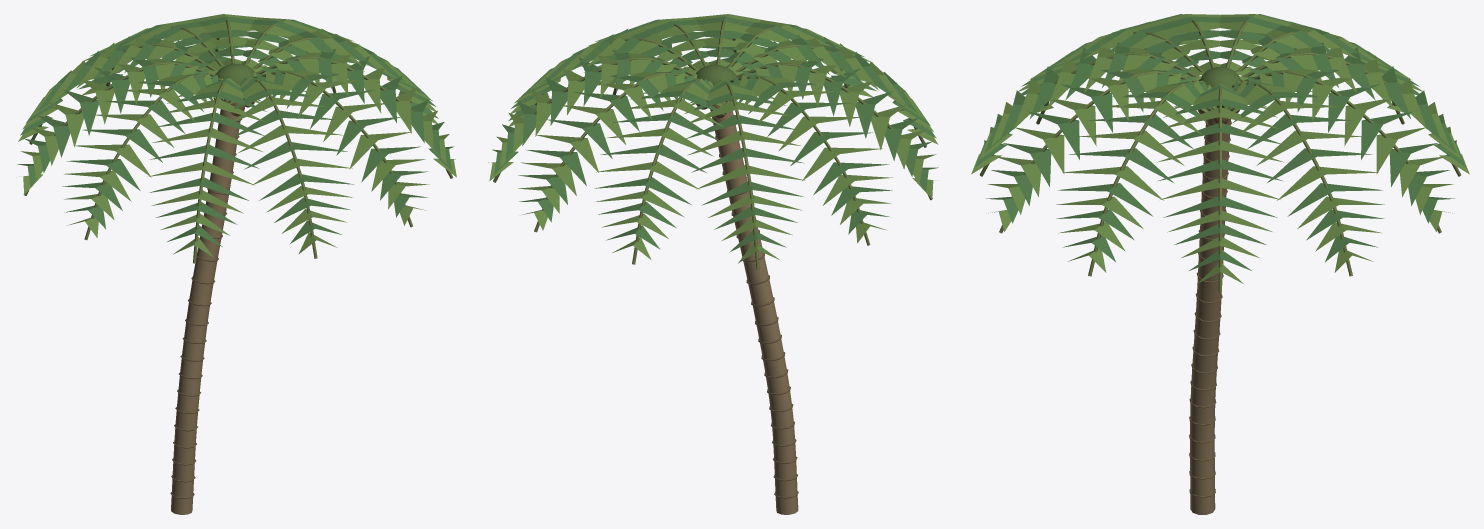
Rendered from palm.glb.
3 renders of one model, left to right at view 1: azimuth 30°, elevation 25°; view 2: azimuth 150°, elevation 25°; view 3: azimuth 270°, elevation 25°, orthographic. The views are drawn at different scales.
Visible parts, largest first — view 1: LeafletAssembly (×2), CurvedTrunk, FrondStemAssembly, BarkRingAssembly, Crown; view 2: LeafletAssembly (×2), CurvedTrunk, FrondStemAssembly, BarkRingAssembly, Crown; view 3: LeafletAssembly (×2), CurvedTrunk, FrondStemAssembly, BarkRingAssembly, Crown.
Part boxes in pixels (<box>): LeafletAssembly (×2): <box>17,14,456,257</box>; CurvedTrunk: <box>171,99,240,514</box>; FrondStemAssembly: <box>23,19,453,263</box>; BarkRingAssembly: <box>170,119,241,499</box>; Crown: <box>215,63,255,100</box>; LeafletAssembly (×2): <box>488,14,938,263</box>; CurvedTrunk: <box>712,100,798,514</box>; FrondStemAssembly: <box>493,19,932,269</box>; BarkRingAssembly: <box>712,115,798,498</box>; Crown: <box>695,64,736,101</box>; LeafletAssembly (×2): <box>971,14,1469,283</box>; CurvedTrunk: <box>1190,109,1230,514</box>; FrondStemAssembly: <box>979,19,1461,292</box>; BarkRingAssembly: <box>1189,121,1231,497</box>; Crown: <box>1198,67,1242,108</box>.
Size of the model in its own units: 8.37 by 9.09 by 8.46.
